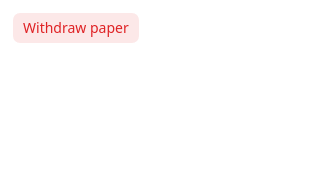
when the page's data changes, the button follows it again
Later steps or results of the test are not shown.
Click the button "Withdraw paper": (76, 28) [12,12,140,44]
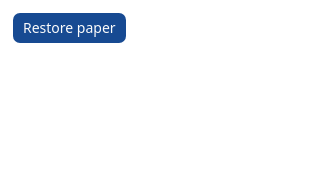
Now the button "Restore paper" is shown, box [12,12,127,44]
